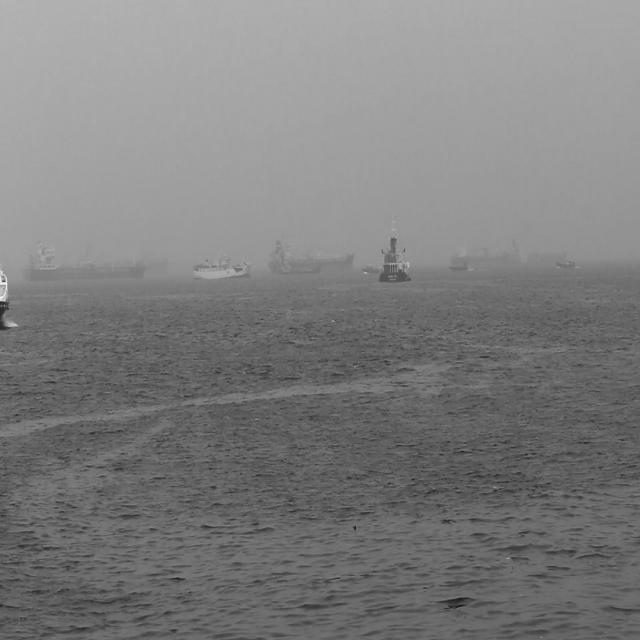ship: (22, 240, 148, 280), (265, 234, 356, 270), (378, 216, 408, 284), (446, 239, 520, 262), (192, 254, 252, 278), (526, 246, 570, 261), (0, 264, 10, 330), (446, 262, 469, 272), (362, 262, 379, 275), (555, 260, 576, 270)
